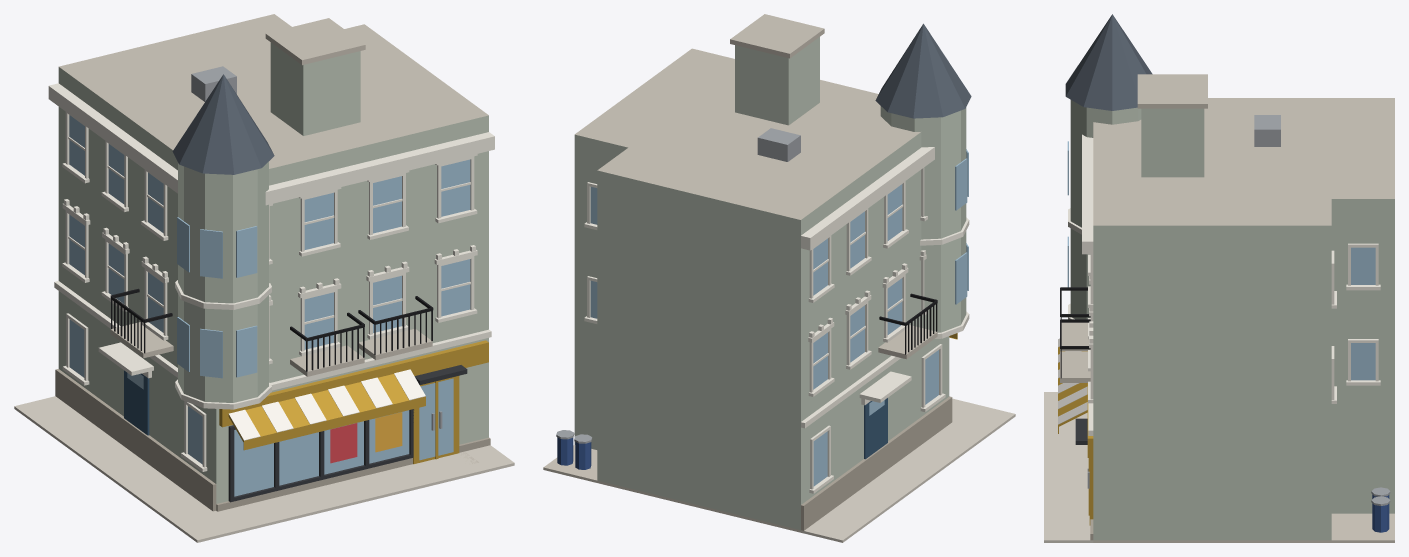
File: Blok_kose_3k_3_Hafif.fbx
The picture shows the model from 3 angles, left to right: view 1: azimuth 30°, elevation 25°; view 2: azimuth 150°, elevation 25°; view 3: azimuth 270°, elevation 25°; orthographic projection. The views are drawn at different scales.
Parts seen in each view (by area): view 1: Blok_kose_3k_3_Hafif; view 2: Blok_kose_3k_3_Hafif; view 3: Blok_kose_3k_3_Hafif.
Boxes of the visible parts, x1=… form: Blok_kose_3k_3_Hafif: x1=14, y1=14, x2=514, y2=542; Blok_kose_3k_3_Hafif: x1=543, y1=14, x2=1015, y2=542; Blok_kose_3k_3_Hafif: x1=1044, y1=14, x2=1394, y2=542.
Bounding box in the file's own units: 10 × 12.92 × 10.
